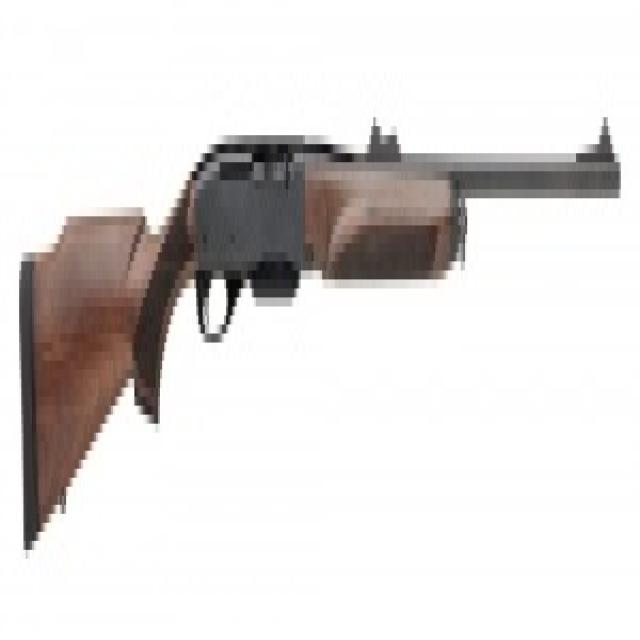rifle: (14, 79, 623, 579)
